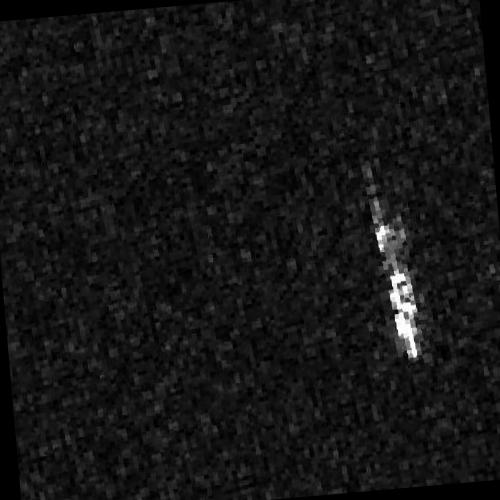ship: (375, 221, 419, 361)
